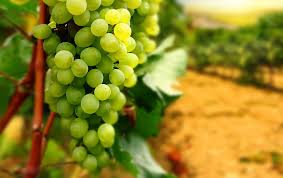grapes: (45, 8, 144, 154)
